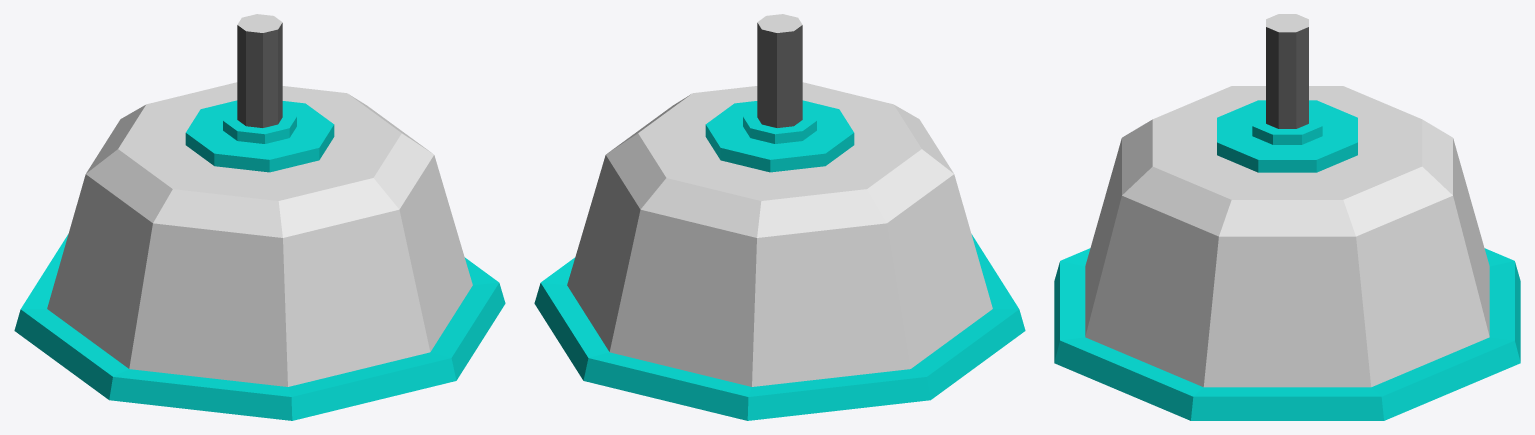
Rendered from TurretStand.fbx.
3 views of the same model, side by side, from view 1: azimuth 30°, elevation 25°; view 2: azimuth 150°, elevation 25°; view 3: azimuth 270°, elevation 25° (orthographic).
Visible parts, largest first — view 1: Cylinder; view 2: Cylinder; view 3: Cylinder.
Boxes of the visible parts, bbox=[...] form: Cylinder: bbox=[14, 14, 505, 420]; Cylinder: bbox=[534, 14, 1025, 420]; Cylinder: bbox=[1054, 14, 1520, 420].
Bounding box in the file's own units: 166 × 118 × 166.
